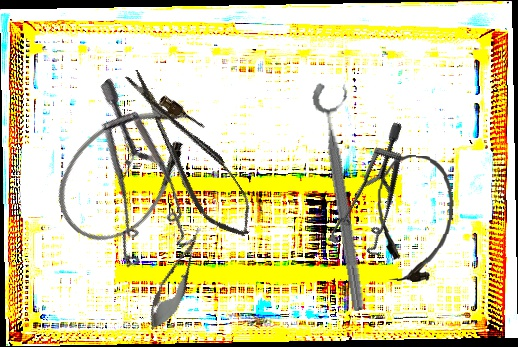Cannula: (35, 73, 222, 262), (371, 152, 457, 285)
Fixation Ring: (310, 78, 383, 313)
Micro Scissor: (115, 56, 265, 250), (140, 221, 213, 337)
Speculum: (22, 76, 235, 288), (294, 119, 456, 275)
